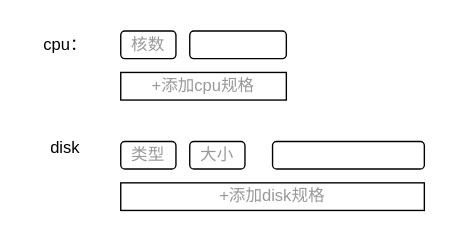
The diagram is 449 pixels wide and 235 high, and some of its shapes have lost their labels. The shapes that lost their labels are listed below. From the top down, each one's centre as x and y in pixels, then its label:
point 237,44: 范围
point 347,154: 名称，用','分隔
